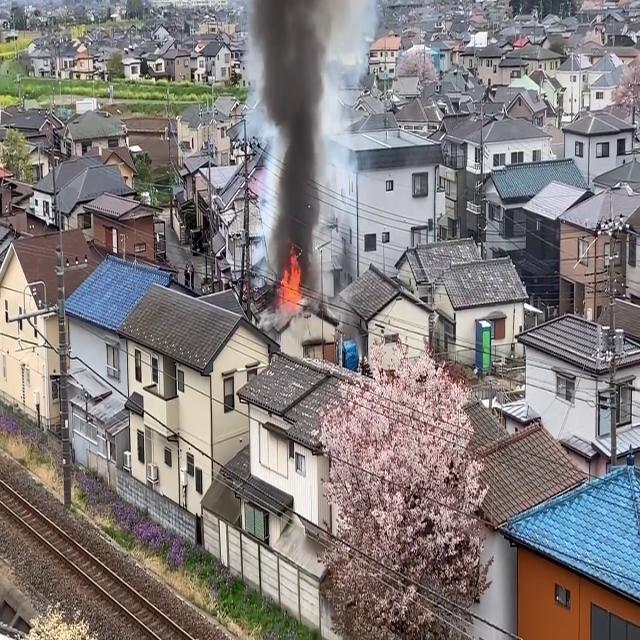Fire: (278, 248, 304, 314)
Smoke: (252, 0, 334, 286)
